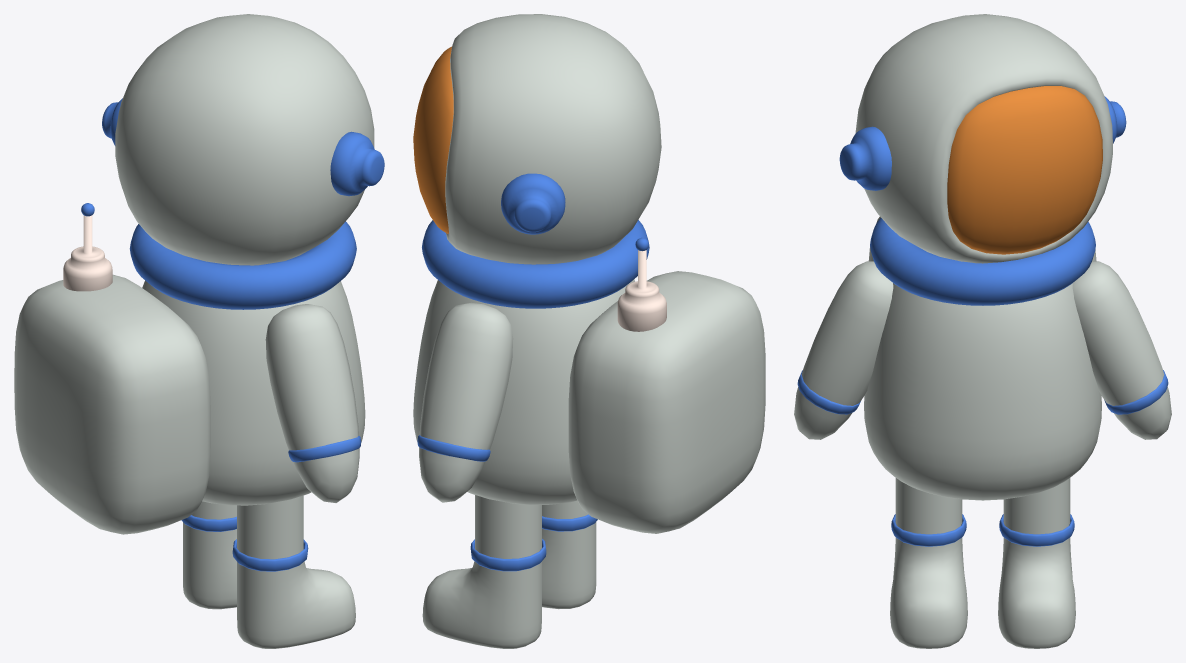
Rendered from spaceman_smoother.glb.
3 renders of one model, left to right at view 1: azimuth 30°, elevation 25°; view 2: azimuth 150°, elevation 25°; view 3: azimuth 270°, elevation 25°, orthographic.
Visible parts, largest first — view 1: Cube, Cube.007, Cube.002, Cube.003, Cube.009, Torus, Cylinder.001, Cylinder, Cube.004, Cube.010; view 2: Cube, Cube.007, Cube.002, Cube.003, Cube.005, Torus, Cube.001, Cylinder.001, Cylinder, Cube.004, Cube.006; view 3: Cube.002, Cube, Cube.001, Cube.003, Torus, Cube.009, Cube.005, Cylinder.001, Cube.004, Cube.006, Cube.010.
Part boxes in pixels (bbox=[...]): Cube: bbox=[115, 14, 374, 265]; Cube.007: bbox=[14, 274, 210, 534]; Cube.002: bbox=[142, 280, 365, 505]; Cube.003: bbox=[183, 495, 355, 648]; Cube.009: bbox=[265, 304, 359, 502]; Torus: bbox=[129, 221, 356, 309]; Cylinder.001: bbox=[102, 98, 384, 196]; Cylinder: bbox=[63, 215, 112, 291]; Cube.004: bbox=[181, 515, 308, 571]; Cube.010: bbox=[288, 436, 361, 462]; Cube: bbox=[445, 14, 661, 264]; Cube.007: bbox=[568, 271, 765, 533]; Cube.002: bbox=[413, 279, 634, 504]; Cube.003: bbox=[422, 495, 596, 648]; Cube.005: bbox=[419, 302, 513, 502]; Torus: bbox=[422, 220, 649, 308]; Cube.001: bbox=[413, 46, 453, 233]; Cylinder.001: bbox=[501, 173, 565, 234]; Cylinder: bbox=[617, 250, 666, 331]; Cube.004: bbox=[470, 514, 597, 571]; Cube.006: bbox=[417, 435, 490, 461]; Cube.002: bbox=[864, 283, 1101, 500]; Cube: bbox=[855, 14, 1112, 263]; Cube.001: bbox=[947, 86, 1102, 254]; Cube.003: bbox=[890, 478, 1075, 648]; Torus: bbox=[870, 218, 1095, 305]; Cube.009: bbox=[794, 261, 893, 439]; Cube.005: bbox=[1072, 261, 1171, 439]; Cylinder.001: bbox=[839, 96, 1126, 190]; Cube.004: bbox=[891, 514, 1074, 546]; Cube.006: bbox=[1104, 370, 1168, 414]; Cube.010: bbox=[797, 370, 860, 414].
Size of the model in its own units: 1.99 by 3.72 by 2.17.
